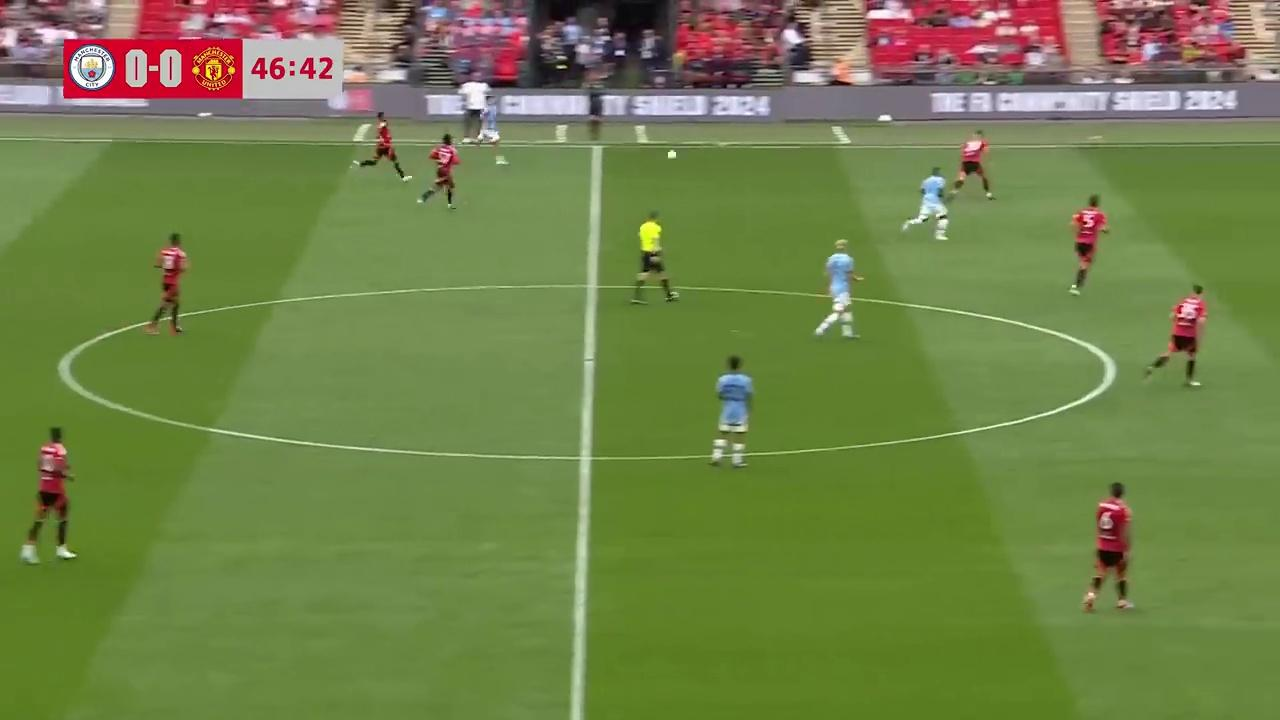ball: (665, 147, 677, 160)
player: (19, 427, 76, 563), (1081, 481, 1133, 613), (1143, 285, 1207, 388), (709, 355, 754, 469), (814, 239, 863, 341), (146, 232, 189, 335), (1068, 194, 1109, 294), (900, 165, 950, 241), (416, 134, 461, 211), (359, 112, 408, 181), (951, 130, 994, 200), (471, 88, 506, 159)
referee: (629, 210, 679, 305)
